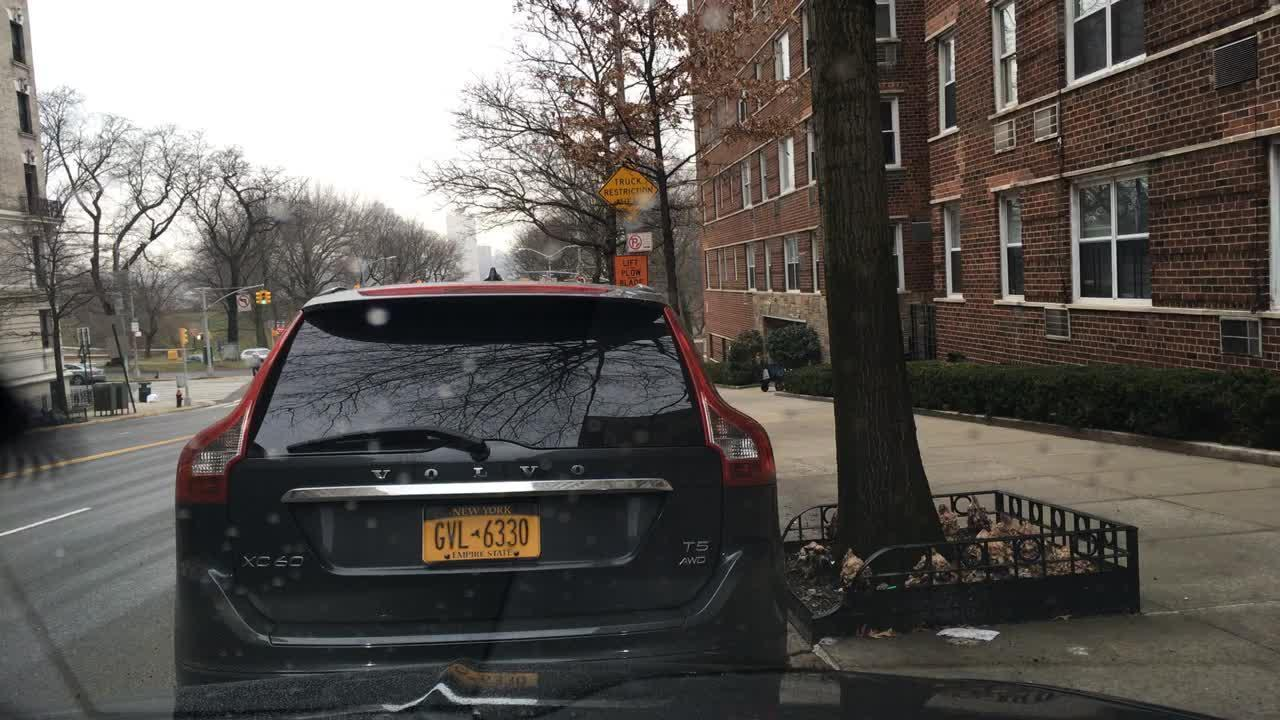volvo: (354, 450, 620, 492)
